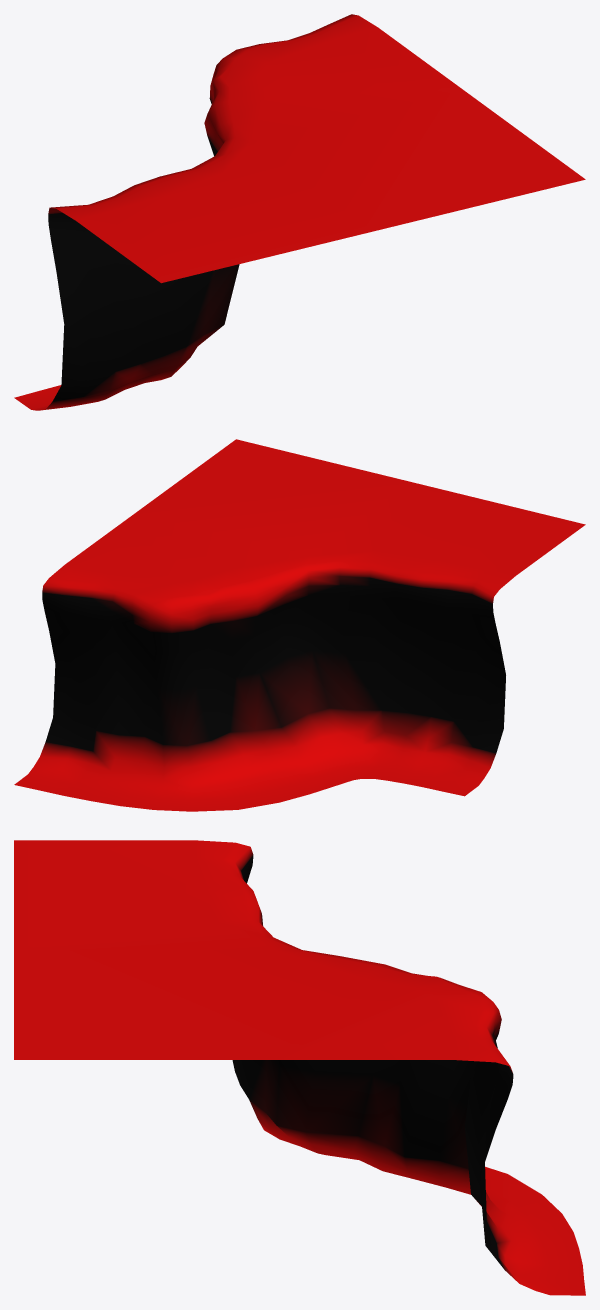
The model's file is GroundCliff05A 1M Background.fbx.
The picture shows the model from 3 angles, top to bottom: view 1: azimuth 30°, elevation 25°; view 2: azimuth 150°, elevation 25°; view 3: azimuth 270°, elevation 25°; orthographic projection. The views are drawn at different scales.
Parts seen in each view (by area): view 1: GroundCliff05A 1M Background; view 2: GroundCliff05A 1M Background; view 3: GroundCliff05A 1M Background.
Part boxes in pixels (x1=…): GroundCliff05A 1M Background: x1=14, y1=14, x2=585, y2=410; GroundCliff05A 1M Background: x1=14, y1=439, x2=585, y2=811; GroundCliff05A 1M Background: x1=14, y1=840, x2=585, y2=1295.
Size of the model in its own units: 2 by 1 by 2.2.
